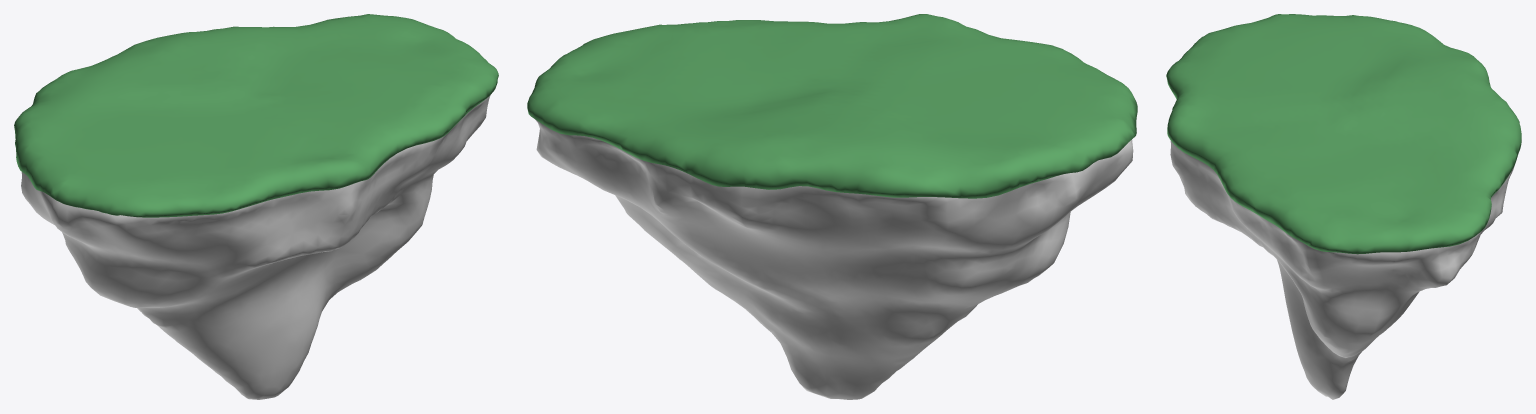
The model's file is IslandsLong1.fbx.
The picture shows the model from 3 angles, left to right: view 1: azimuth 30°, elevation 25°; view 2: azimuth 150°, elevation 25°; view 3: azimuth 270°, elevation 25°; orthographic projection. The views are drawn at different scales.
Parts seen in each view (by area): view 1: FullSacleTop, FullScaleBottom.001; view 2: FullSacleTop, FullScaleBottom.001; view 3: FullSacleTop, FullScaleBottom.001.
Part boxes in pixels (box(x1,y1,x2,y2)): FullSacleTop: box(14, 14, 498, 217); FullScaleBottom.001: box(21, 95, 490, 399); FullSacleTop: box(527, 14, 1137, 198); FullScaleBottom.001: box(535, 119, 1133, 399); FullSacleTop: box(1166, 14, 1521, 254); FullScaleBottom.001: box(1170, 141, 1514, 399).
Bounding box in the file's own units: 3361 × 2031 × 2314.
